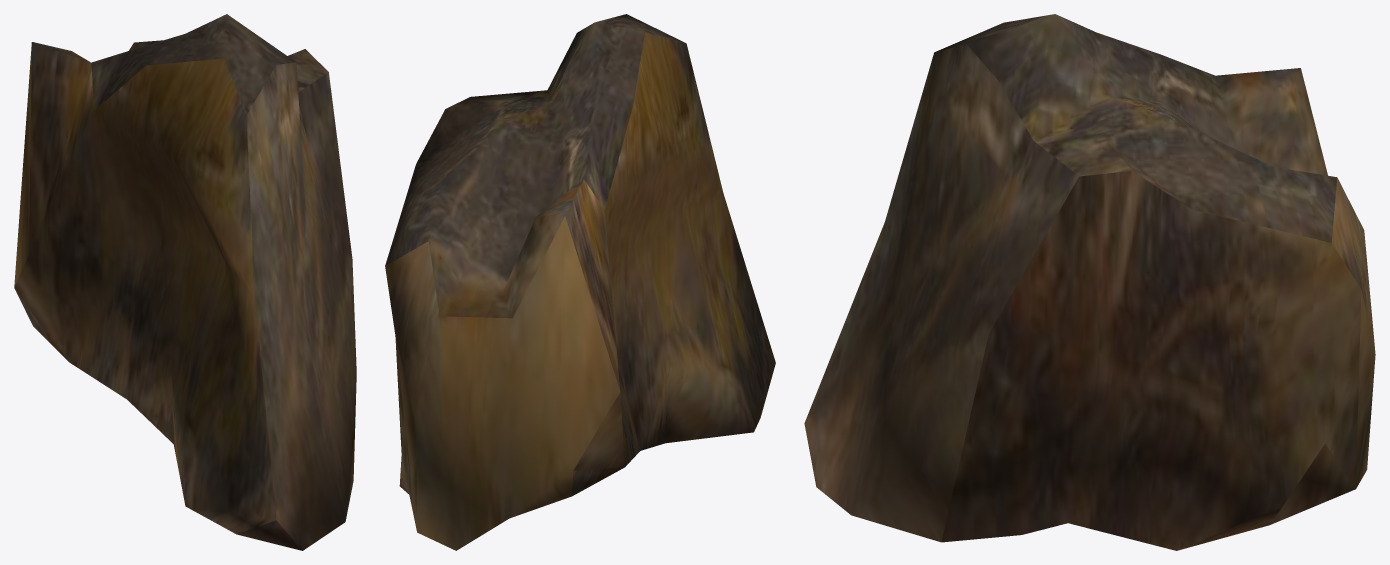
The model's file is rock_09_lo.glb.
3 renders of one model, left to right at view 1: azimuth 30°, elevation 25°; view 2: azimuth 150°, elevation 25°; view 3: azimuth 270°, elevation 25°, orthographic. The views are drawn at different scales.
Parts seen in each view (by area): view 1: rock_09_lo; view 2: rock_09_lo; view 3: rock_09_lo.
Boxes of the visible parts, x1,y1,x2,y2 form: rock_09_lo: (14,14,356,550); rock_09_lo: (385,14,775,550); rock_09_lo: (804,14,1375,550).
Size of the model in its own units: 0.4996 by 0.9684 by 0.9973.
1 material, 1 textured.
